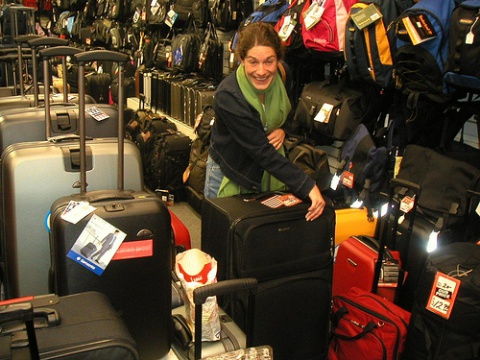hand: (303, 185, 325, 222)
